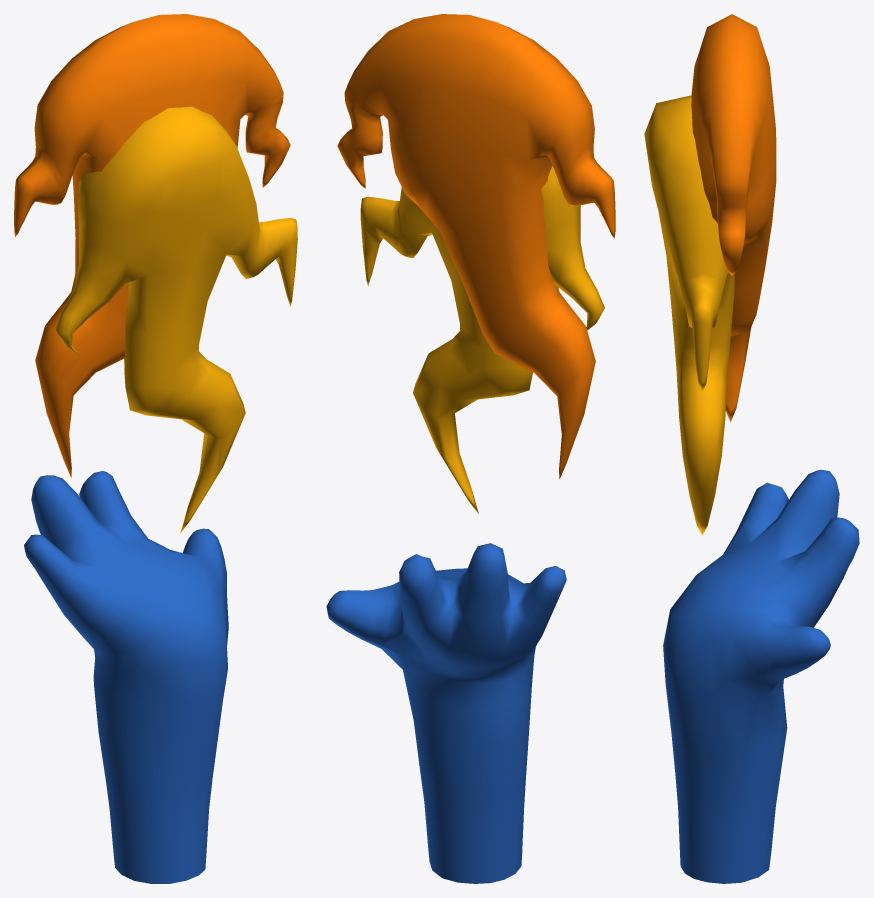
File: Fireball.glb
3 renders of one model, left to right at view 1: azimuth 30°, elevation 25°; view 2: azimuth 150°, elevation 25°; view 3: azimuth 270°, elevation 25°, orthographic.
Parts seen in each view (by area): view 1: Fireball; view 2: Fireball; view 3: Fireball.
Part boxes in pixels (left/top/right/bottom): Fireball: left=14, top=14, right=297, bottom=883; Fireball: left=326, top=14, right=615, bottom=883; Fireball: left=644, top=14, right=859, bottom=883.
Bounding box in the file's own units: 1.05 × 3.11 × 0.7261.
Materials: 2 (2 with a texture image).
